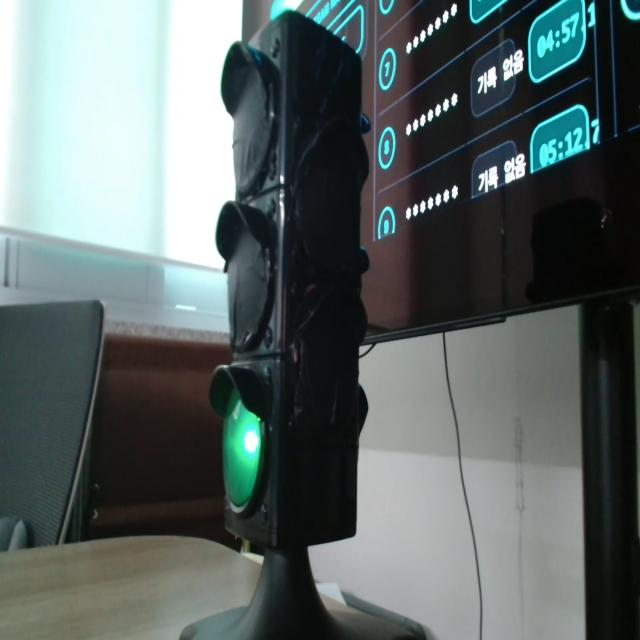green_light: (223, 389, 261, 508)
